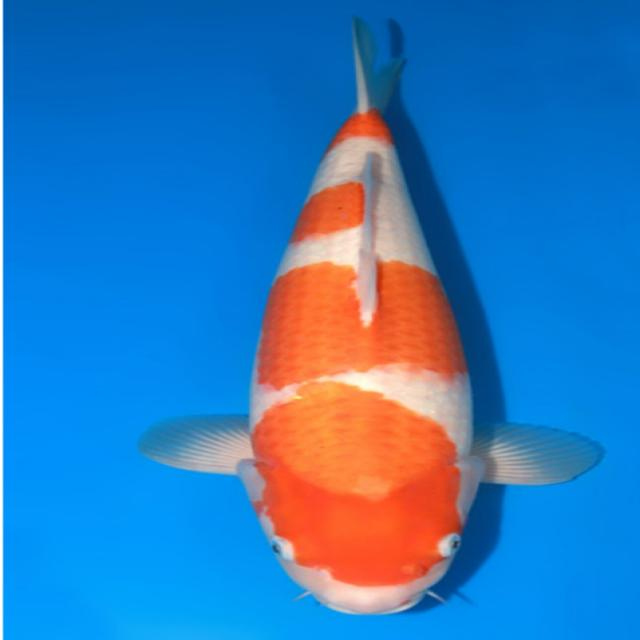Kohaku: (136, 14, 604, 616)
